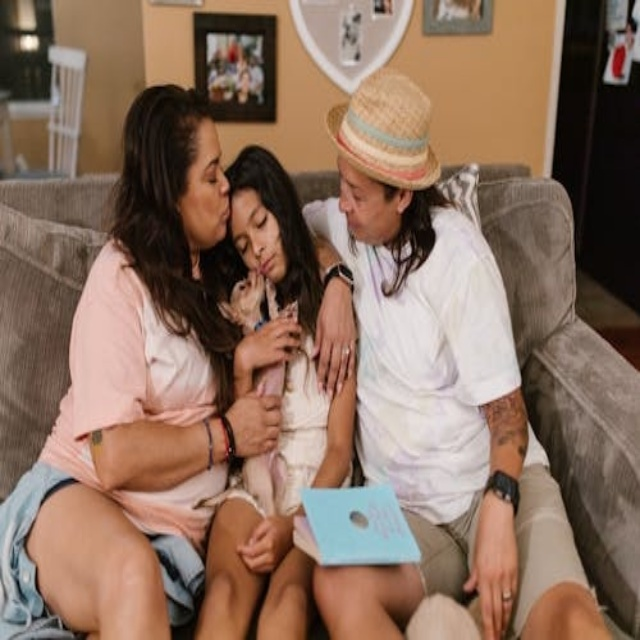Sin_gafas: (237, 202, 268, 258), (334, 161, 371, 202), (191, 146, 225, 188)
Sin_guantes: (468, 490, 518, 636), (218, 393, 279, 462), (237, 511, 291, 574), (316, 337, 358, 391)
Sin_mascara: (204, 194, 233, 234), (339, 204, 370, 240), (259, 248, 280, 275)
